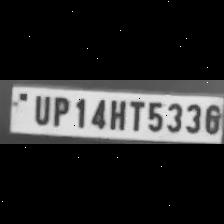1: (71, 96, 88, 128)
3: (182, 100, 202, 134), (164, 100, 182, 132)
4: (87, 96, 107, 130)
5: (143, 98, 163, 132)
8: (202, 100, 222, 134)
H: (106, 97, 127, 130)
P: (49, 94, 71, 128)
T: (126, 97, 144, 131)
U: (29, 93, 51, 125)
